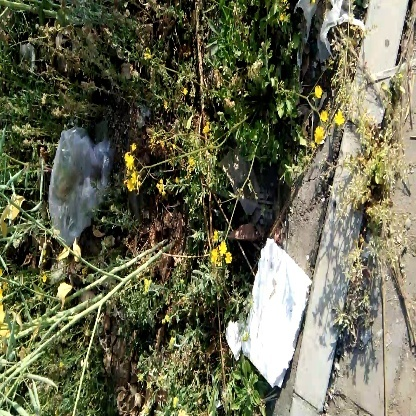plastic-bag: (47, 126, 115, 249)
